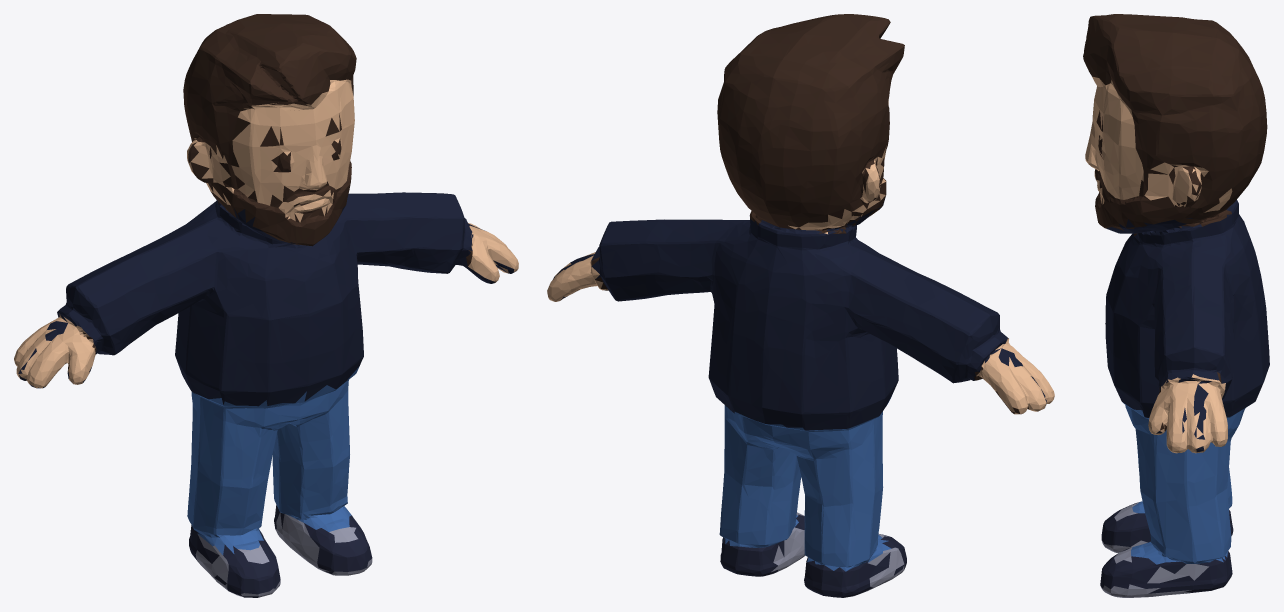
File: walker-for-mixamo.fbx
3 views of the same model, side by side, from view 1: azimuth 30°, elevation 25°; view 2: azimuth 150°, elevation 25°; view 3: azimuth 270°, elevation 25° (orthographic).
Visible parts, largest first — view 1: walker; view 2: walker; view 3: walker.
Boxes of the visible parts, x1,y1,x2,y2 form: walker: (14, 14, 518, 597); walker: (547, 14, 1054, 597); walker: (1083, 14, 1269, 597).
Bounding box in the file's own units: 173 × 180 × 56.55.
